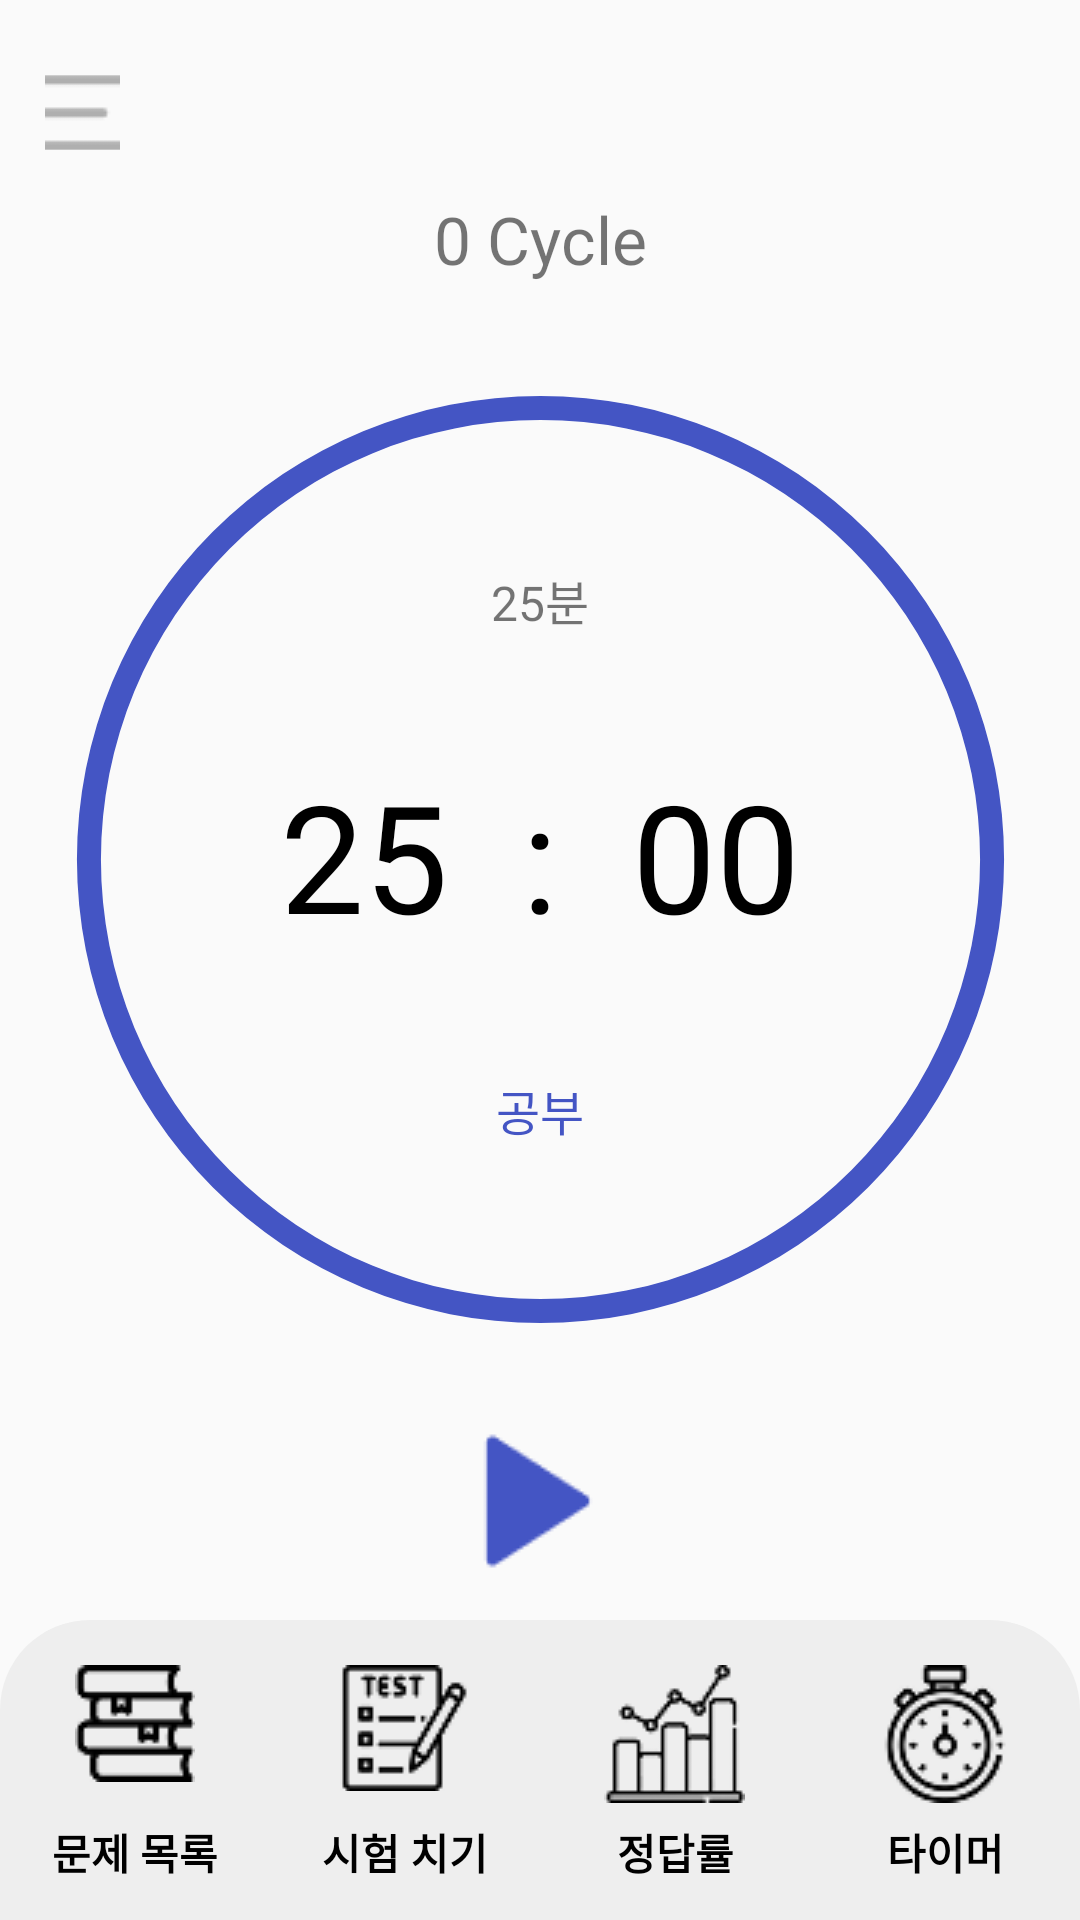

Point at icon controls on the screen. Image size 1080 x 1920, points as (x=x, y=y).
hamburger: (x=82, y=112)
